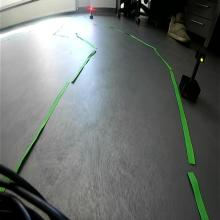green: (194, 50, 206, 63)
